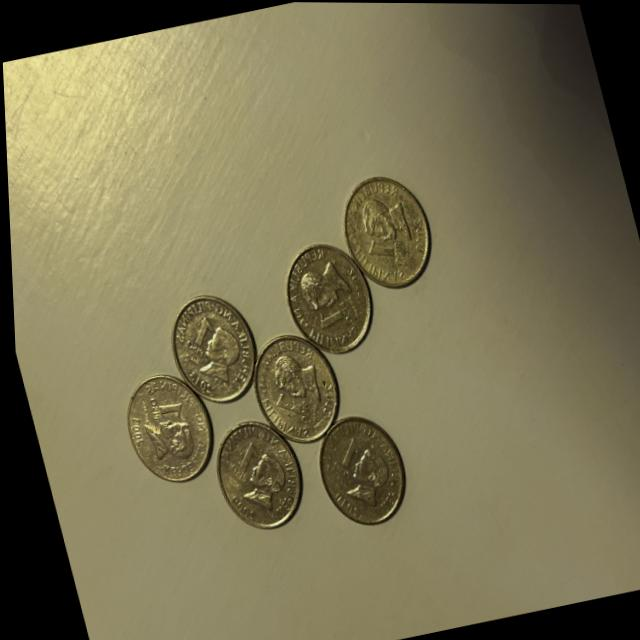1_Old_Front: (359, 228, 411, 274), (137, 384, 187, 426), (267, 383, 314, 426), (219, 440, 263, 485), (323, 435, 364, 481), (312, 294, 355, 336), (178, 312, 216, 357)
